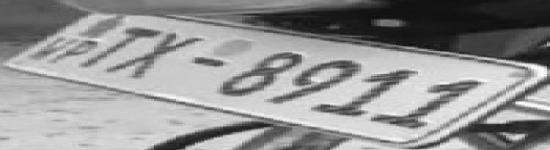-: (186, 55, 228, 69)
1: (348, 68, 508, 136), (286, 61, 452, 125)
8: (188, 44, 326, 105)
9: (242, 54, 387, 111)
P: (31, 36, 113, 70)
T: (52, 21, 174, 75)
W: (10, 33, 78, 68)
X: (77, 27, 222, 86)
